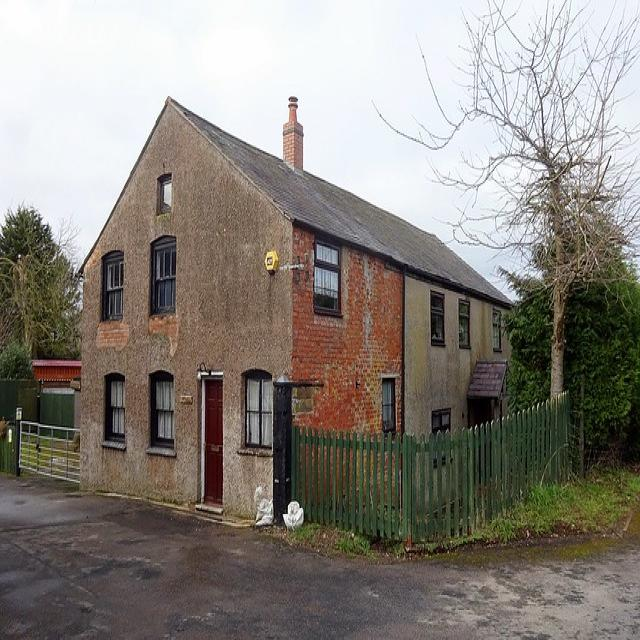building: (74, 98, 529, 545)
